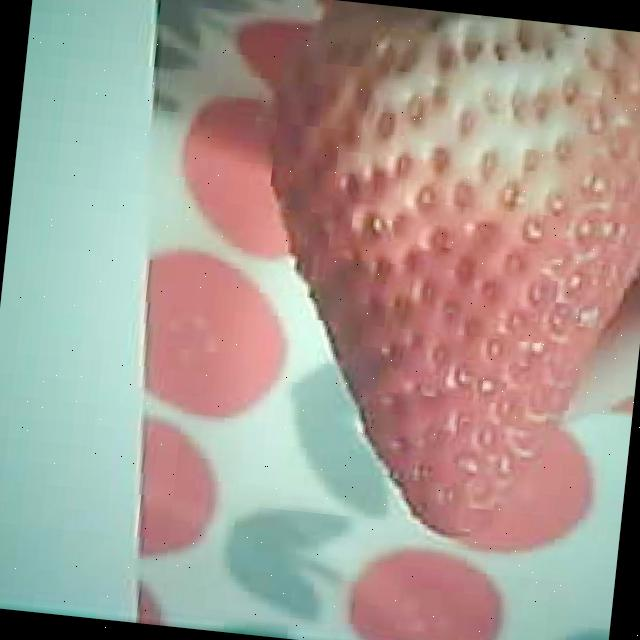strawberry: (231, 0, 640, 556)
